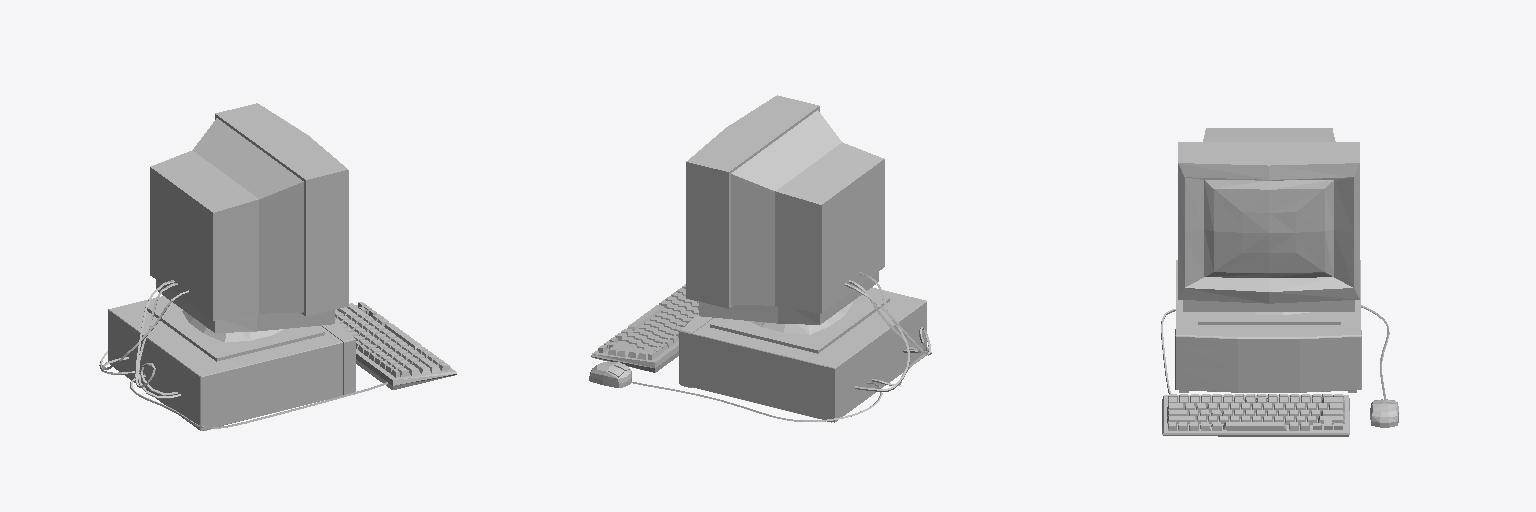
File: Retro Pc.obj
3 views of the same model, side by side, from view 1: azimuth 30°, elevation 25°; view 2: azimuth 150°, elevation 25°; view 3: azimuth 270°, elevation 25° (orthographic).
Parts seen in each view (by area): view 1: Monitor_002.007, PC_004.007, KeyBoard_002.005, PC_004.005, NurbsPath.020, NurbsPath.014; view 2: Monitor_002.007, PC_004.007, KeyBoard_002.005, PC_004.005, Mouse_001.005, NurbsPath.020, NurbsPath.016; view 3: Monitor_002.007, PC_004.005, KeyBoard_002.005, PC_004.007, Mouse_001.005.
Part boxes in pixels (left/top/right/bottom): Monitor_002.007: left=145, top=103, right=348, bottom=361; PC_004.007: left=108, top=296, right=354, bottom=430; KeyBoard_002.005: left=335, top=302, right=456, bottom=389; PC_004.005: left=322, top=320, right=355, bottom=394; NurbsPath.020: left=135, top=280, right=180, bottom=398; NurbsPath.014: left=130, top=374, right=387, bottom=428; Monitor_002.007: left=686, top=95, right=889, bottom=353; PC_004.007: left=684, top=287, right=926, bottom=422; KeyBoard_002.005: left=591, top=284, right=698, bottom=372; PC_004.005: left=679, top=313, right=712, bottom=387; Mouse_001.005: left=589, top=361, right=631, bottom=387; NurbsPath.020: left=845, top=280, right=931, bottom=355; NurbsPath.016: left=629, top=381, right=882, bottom=421; Monitor_002.007: left=1178, top=128, right=1359, bottom=324; PC_004.005: left=1175, top=329, right=1361, bottom=392; KeyBoard_002.005: left=1162, top=394, right=1349, bottom=436; PC_004.007: left=1176, top=260, right=1360, bottom=392; Mouse_001.005: left=1370, top=399, right=1398, bottom=427.
Size of the model in its own units: 0.7459 by 0.5672 by 0.5409.